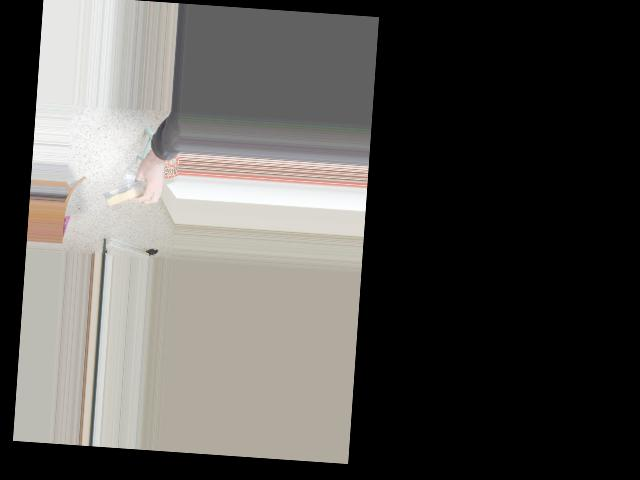cheese: (98, 166, 168, 224)
